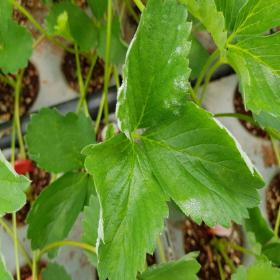Powdery Mildew Leaf: (139, 101, 267, 229), (80, 132, 172, 279), (116, 0, 193, 141)
